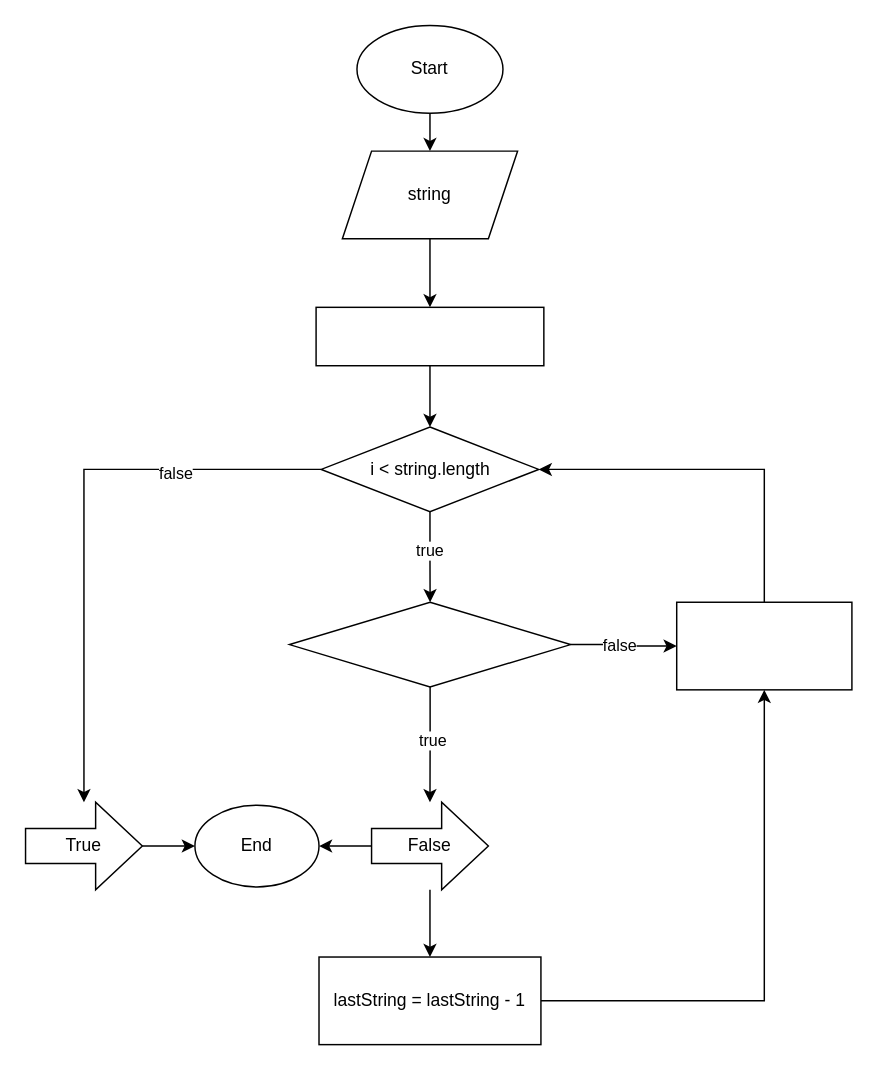
Some shapes in this 877 by 1070 pixel diagram are drawn without their labels. Here are the shapes that lost their labels. From the top down, the centre of each, then its label:
the point at 429,336: lastString = string.length - 1
the point at 429,644: string[i] !== string[lastString]
the point at 763,645: i = i + 1
